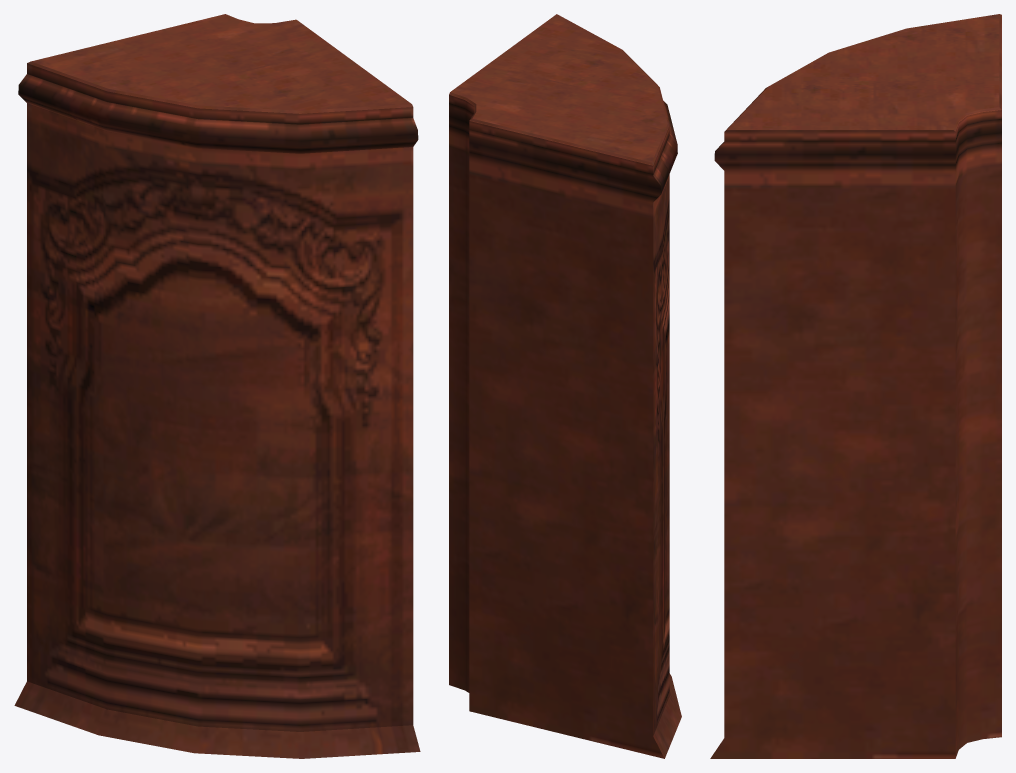
File: bookcase_low_corner02.DAE
3 renders of one model, left to right at view 1: azimuth 30°, elevation 25°; view 2: azimuth 150°, elevation 25°; view 3: azimuth 270°, elevation 25°, orthographic. The views are drawn at different scales.
Visible parts, largest first — view 1: Box008; view 2: Box008; view 3: Box008.
Part boxes in pixels (left/top/right/bottom): Box008: left=14, top=14, right=420, bottom=758; Box008: left=449, top=14, right=681, bottom=758; Box008: left=710, top=14, right=1001, bottom=758.
Size of the model in its own units: 0.6297 by 1.5 by 0.6308.
